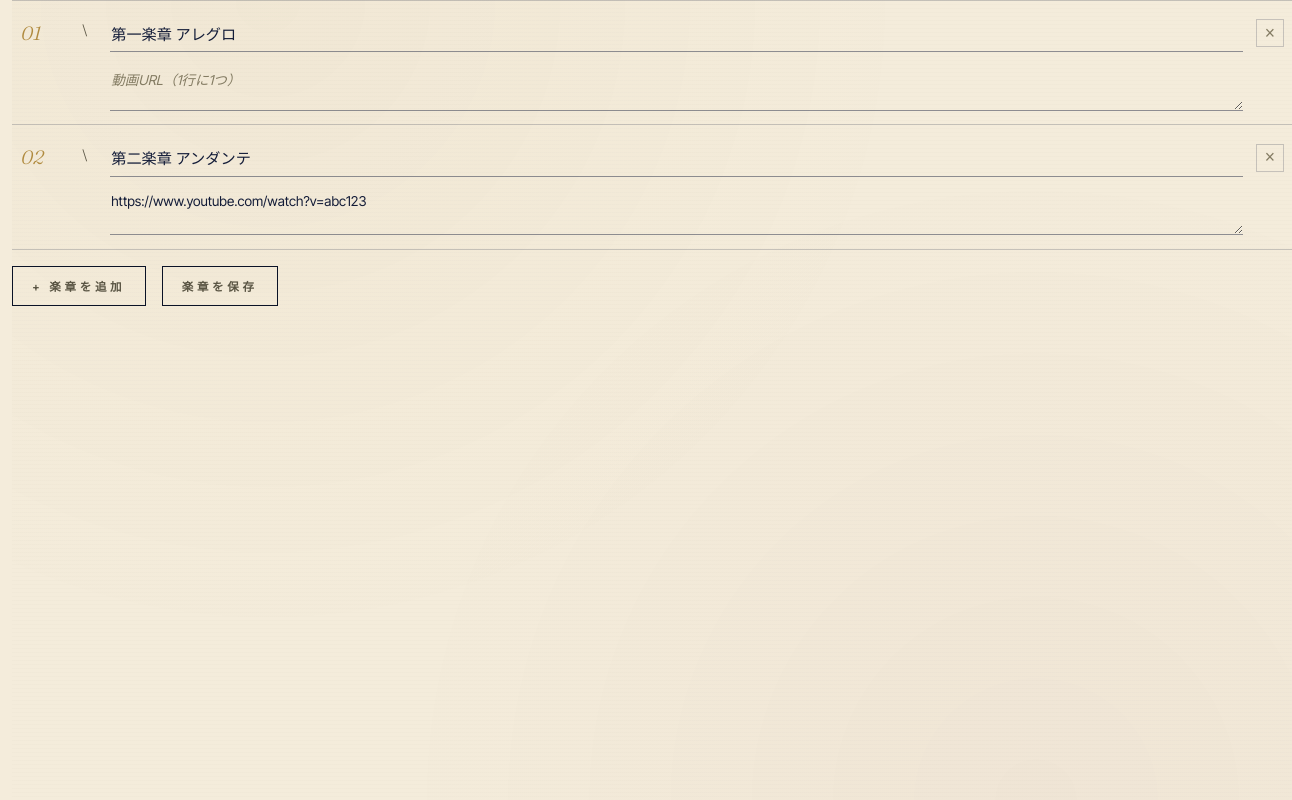
Test: MovementListEditor › 楽章削除 › 削除ボタンで対象行が削除される
Click the button with test id "remove-movement-0" at (1270, 33), box [1256,19,1284,47]
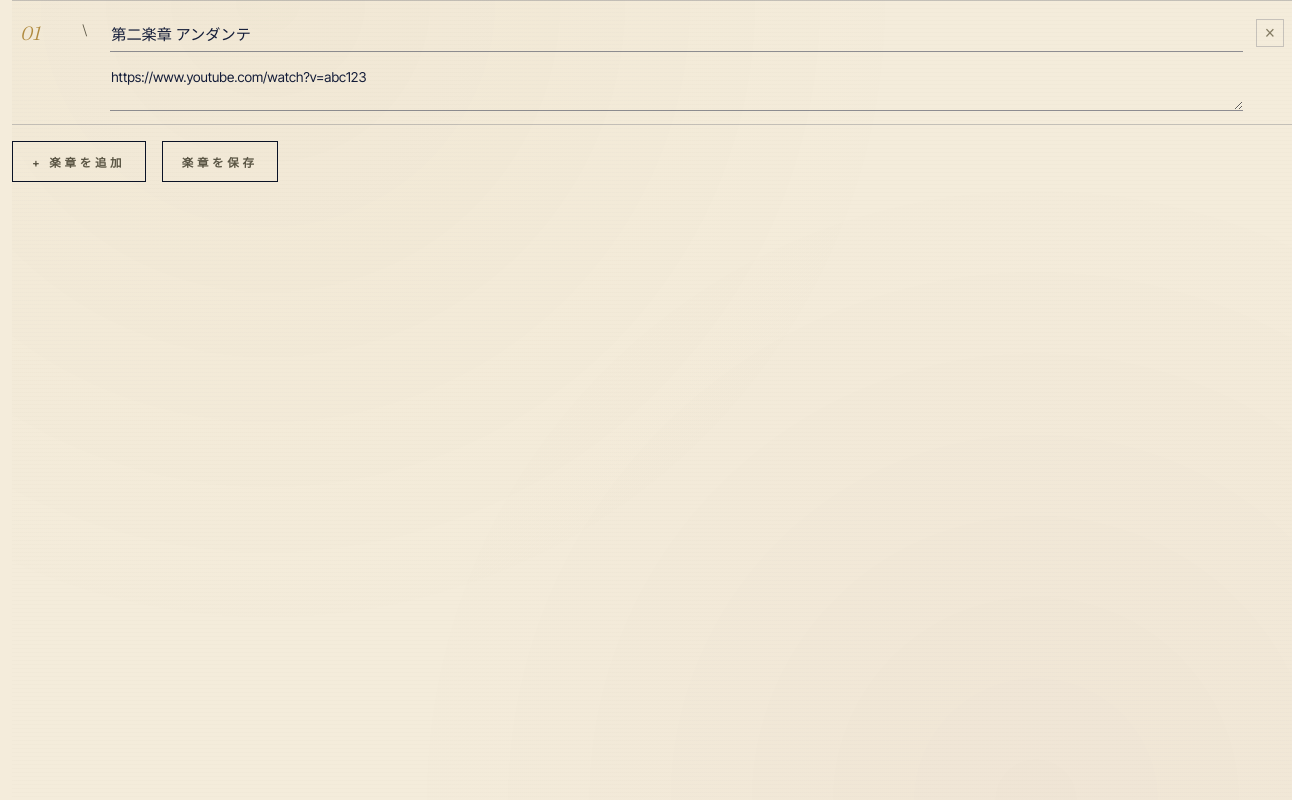
Result: the number of list items with class "movement-item" is 1 at [12,1,1291,125]
